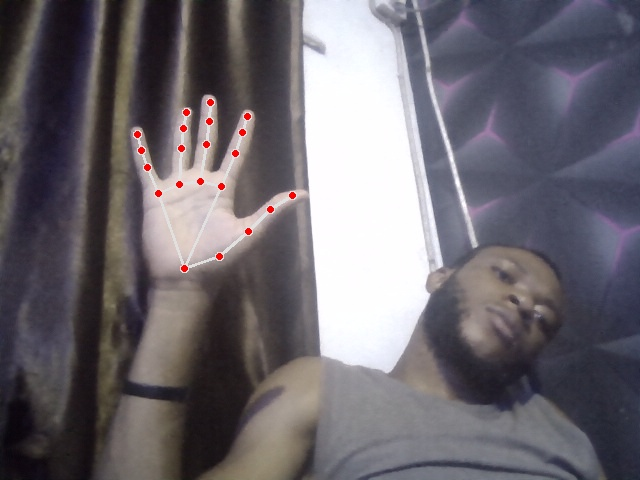no: (130, 94, 310, 279)
